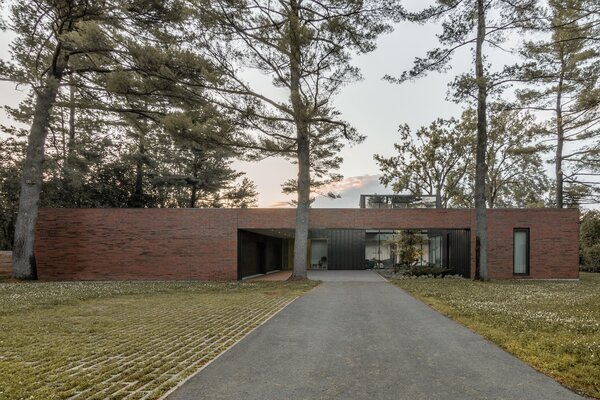tree: (202, 1, 375, 283), (1, 2, 158, 283), (411, 2, 533, 281)
